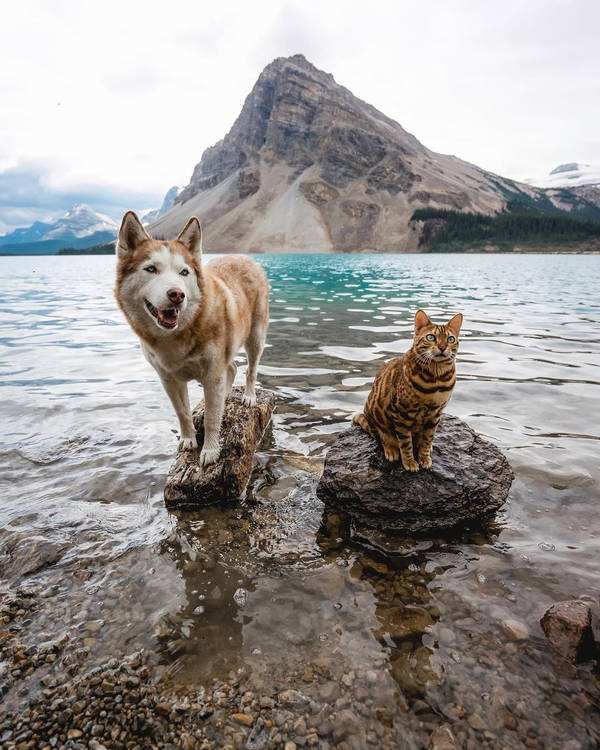cat: (352, 300, 466, 477)
